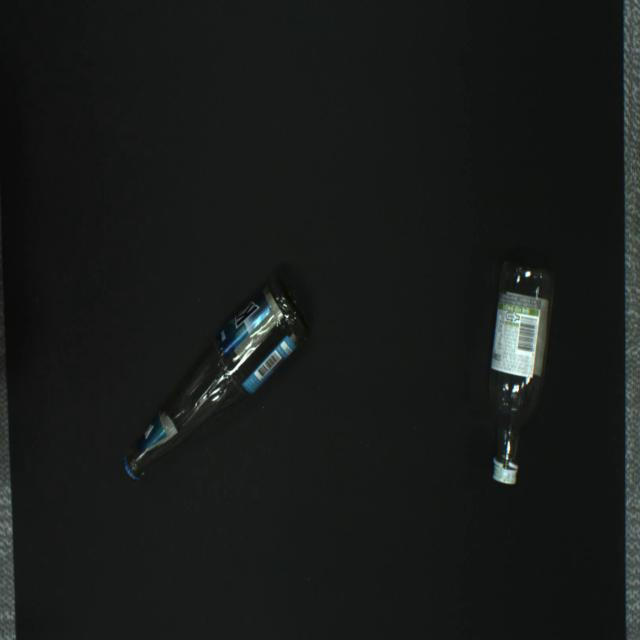beer-bottle: (124, 280, 308, 480)
soju-bottle: (488, 262, 554, 485)
